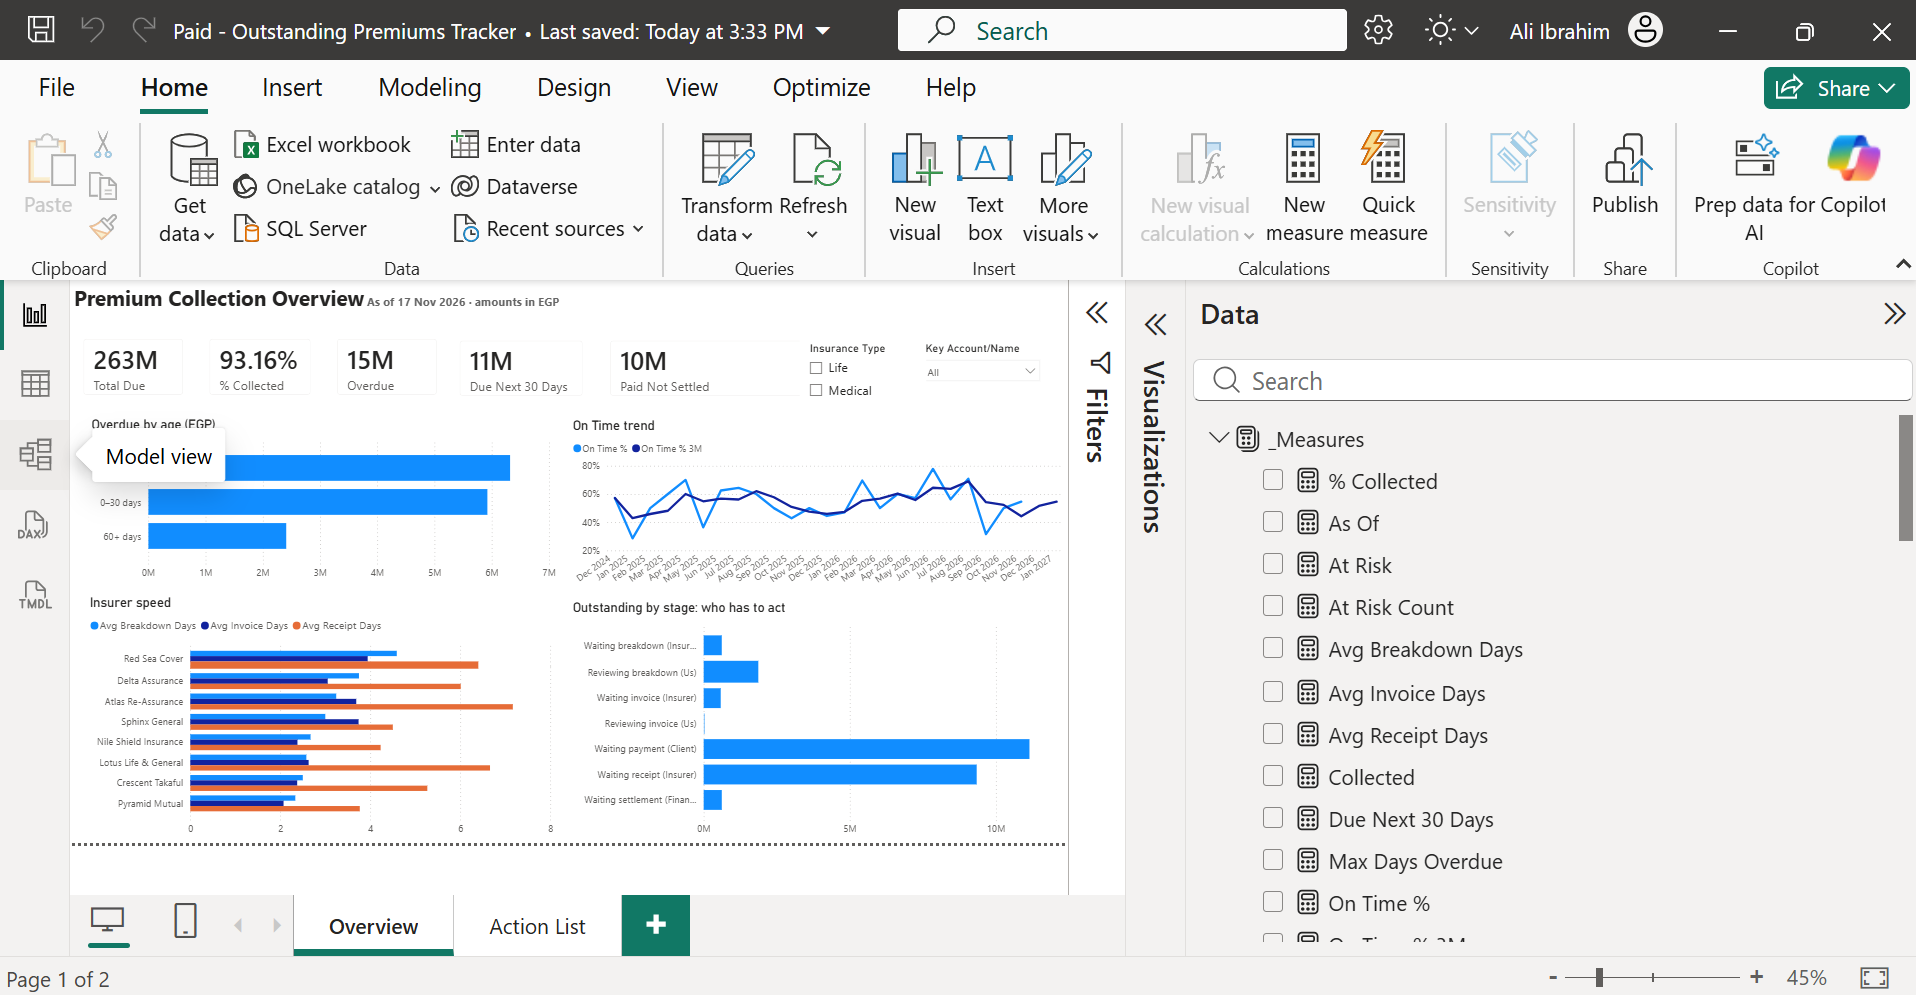

The page's visual inventory and layout, read from the dashboard file:
{"tool":"powerbi","page":{"name":"Overview","canvas":[1280,720],"ordinal":0},"visuals":[{"type":"textbox","box":[0,0,1107.5,67.5],"z":0},{"type":"cardVisual","fields":{"Data":["_Measures.Total Due"]},"box":[0,58,162,106],"z":1000},{"type":"cardVisual","fields":{"Data":["_Measures.% Collected"]},"box":[162,58,164,106],"z":2000},{"type":"cardVisual","fields":{"Data":["_Measures.Overdue"]},"box":[326,58,162,106],"z":3000},{"type":"cardVisual","fields":{"Data":["_Measures.Due Next 30 Days"]},"box":[482.5,60,192.5,105],"z":4000},{"type":"cardVisual","fields":{"Data":["_Measures.Paid Not Settled"]},"box":[675,60,295,105],"z":5000},{"type":"slicer","fields":{"Values":["Customer.Key Account/Name"]},"box":[1085,75,170,122.5],"z":6000},{"type":"slicer","fields":{"Values":["Product.Insurance Type"]},"box":[937.5,75,162.5,97.5],"z":7000},{"type":"clusteredBarChart","title":"Overdue by age (EGP)","fields":{"Category":["Installments.Aging Bucket"],"Y":["_Measures.Overdue"]},"box":[22,176,606,218],"z":8000},{"type":"lineChart","title":"On Time trend","fields":{"Category":["Date.Month"],"Y":["_Measures.On Time %","_Measures.On Time % 3M"]},"box":[640,177.5,640,232.5],"z":9000},{"type":"clusteredBarChart","title":"Insurer speed","fields":{"Category":["Installments.Insurer/Name"],"Y":["_Measures.Avg Breakdown Days","_Measures.Avg Invoice Days","_Measures.Avg Receipt Days"]},"box":[20,405,605,315],"z":10000},{"type":"clusteredBarChart","title":"Outstanding by stage: who has to act","fields":{"Category":["Installments.Stage"],"Y":["_Measures.Outstanding"]},"box":[640,411,640,309],"z":11000}]}

Visuals, with their boxes on the page's 1280x720 design canvas (x1, y1, x2, y2). These are canvas units, not pixel positions in the 1916x995 screenshot, which may show the page scaled, cropped or inside an application window:
textbox: <region>0, 0, 1108, 68</region>
cardVisual - _Measures.Total Due: <region>0, 58, 162, 164</region>
cardVisual - _Measures.% Collected: <region>162, 58, 326, 164</region>
cardVisual - _Measures.Overdue: <region>326, 58, 488, 164</region>
cardVisual - _Measures.Due Next 30 Days: <region>482, 60, 675, 165</region>
cardVisual - _Measures.Paid Not Settled: <region>675, 60, 970, 165</region>
slicer - Customer.Key Account/Name: <region>1085, 75, 1255, 198</region>
slicer - Product.Insurance Type: <region>938, 75, 1100, 172</region>
"Overdue by age (EGP)" clusteredBarChart: <region>22, 176, 628, 394</region>
"On Time trend" lineChart: <region>640, 178, 1280, 410</region>
"Insurer speed" clusteredBarChart: <region>20, 405, 625, 720</region>
"Outstanding by stage: who has to act" clusteredBarChart: <region>640, 411, 1280, 720</region>
